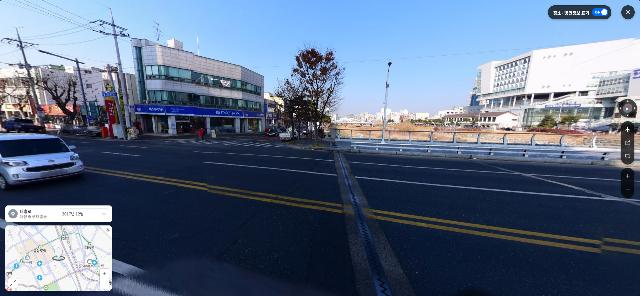other: (284, 39, 346, 147), (30, 63, 86, 130), (275, 75, 306, 142), (1, 63, 32, 120)
